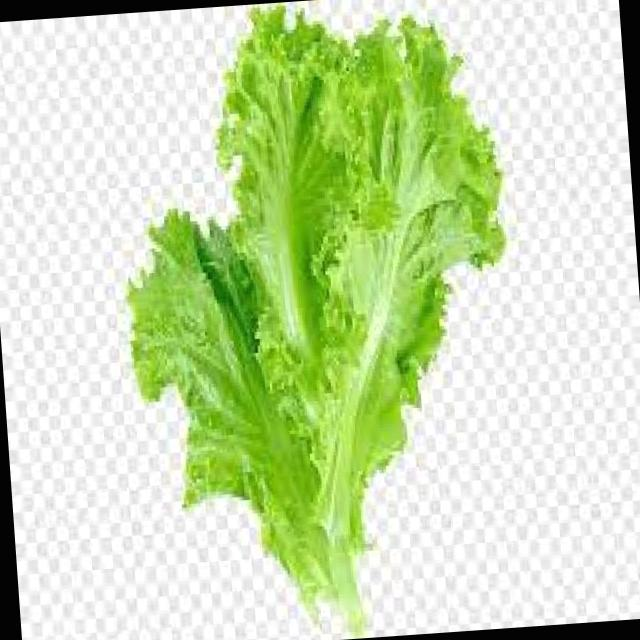Lettuce-Ready-to-Harvest: (128, 7, 503, 630)
